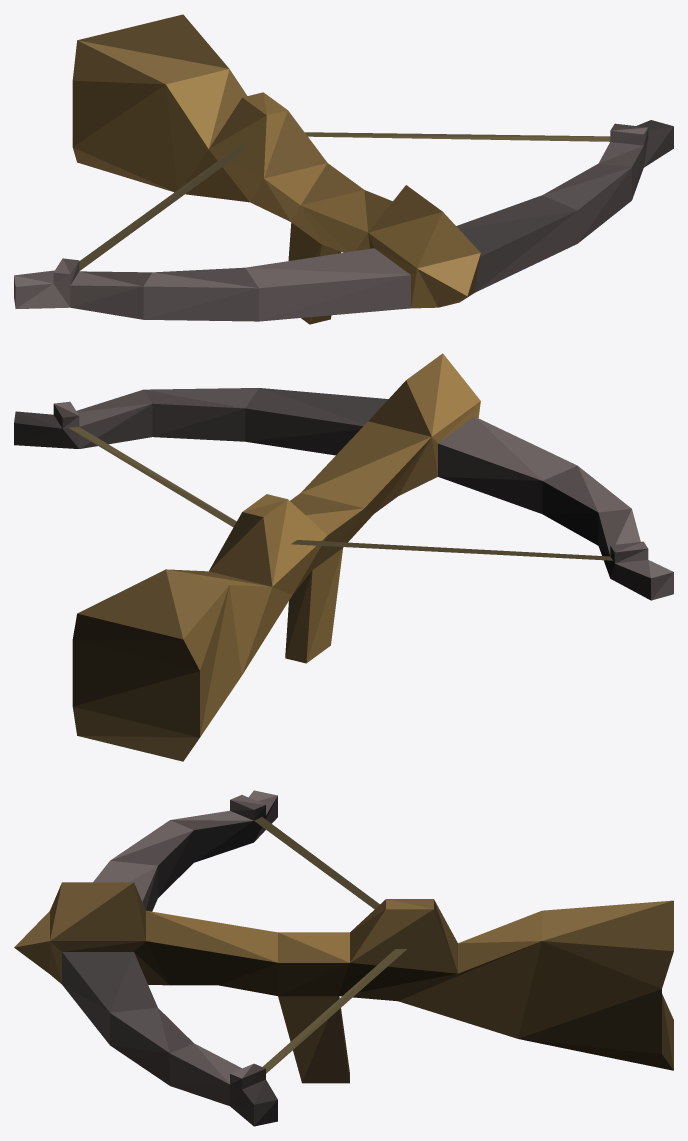
Rendered from steel-crossbow.obj.
The picture shows the model from 3 angles, top to bottom: view 1: azimuth 30°, elevation 25°; view 2: azimuth 150°, elevation 25°; view 3: azimuth 270°, elevation 25°; orthographic projection. The views are drawn at different scales.
Visible parts, largest first — view 1: Item Steel crossbow 2026-09-24_13-53-17; view 2: Item Steel crossbow 2026-09-24_13-53-17; view 3: Item Steel crossbow 2026-09-24_13-53-17.
Boxes of the visible parts, x1,y1,x2,y2 form: Item Steel crossbow 2026-09-24_13-53-17: (14, 14, 673, 324); Item Steel crossbow 2026-09-24_13-53-17: (14, 353, 673, 761); Item Steel crossbow 2026-09-24_13-53-17: (14, 790, 673, 1126).
Size of the model in its own units: 62 by 18 by 55.
